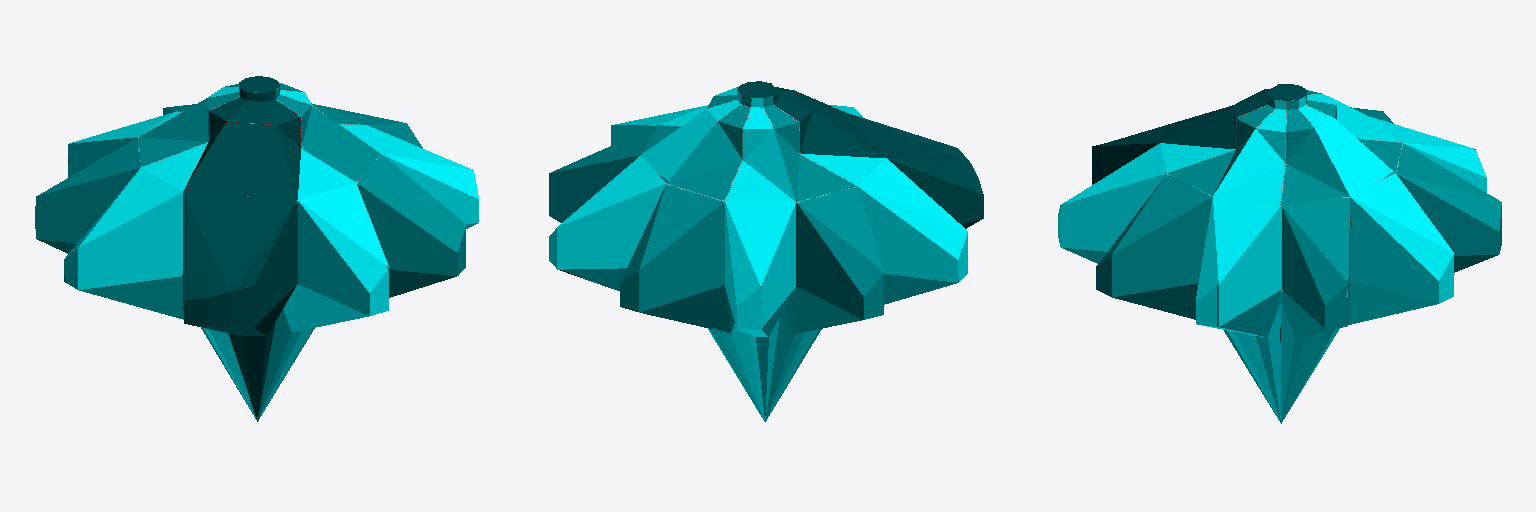
The picture shows the model from 3 angles: view 1: azimuth 30°, elevation 25°; view 2: azimuth 150°, elevation 25°; view 3: azimuth 270°, elevation 25°; orthographic projection.
Visible parts, largest first — view 1: 円錐; view 2: 円錐; view 3: 円錐.
Boxes of the visible parts, x1=… form: 円錐: x1=35, y1=76, x2=478, y2=421; 円錐: x1=549, y1=81, x2=983, y2=421; 円錐: x1=1058, y1=84, x2=1501, y2=423.
Bounding box in the file's own units: 9.87 × 8.25 × 9.93.
Materials: 1 (1 with a texture image).